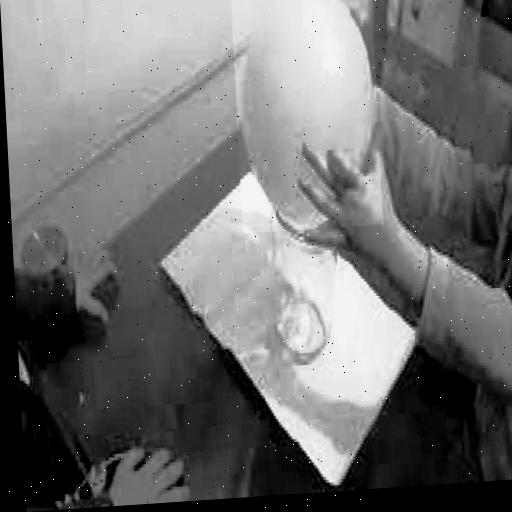balloon: (231, 0, 383, 233)
